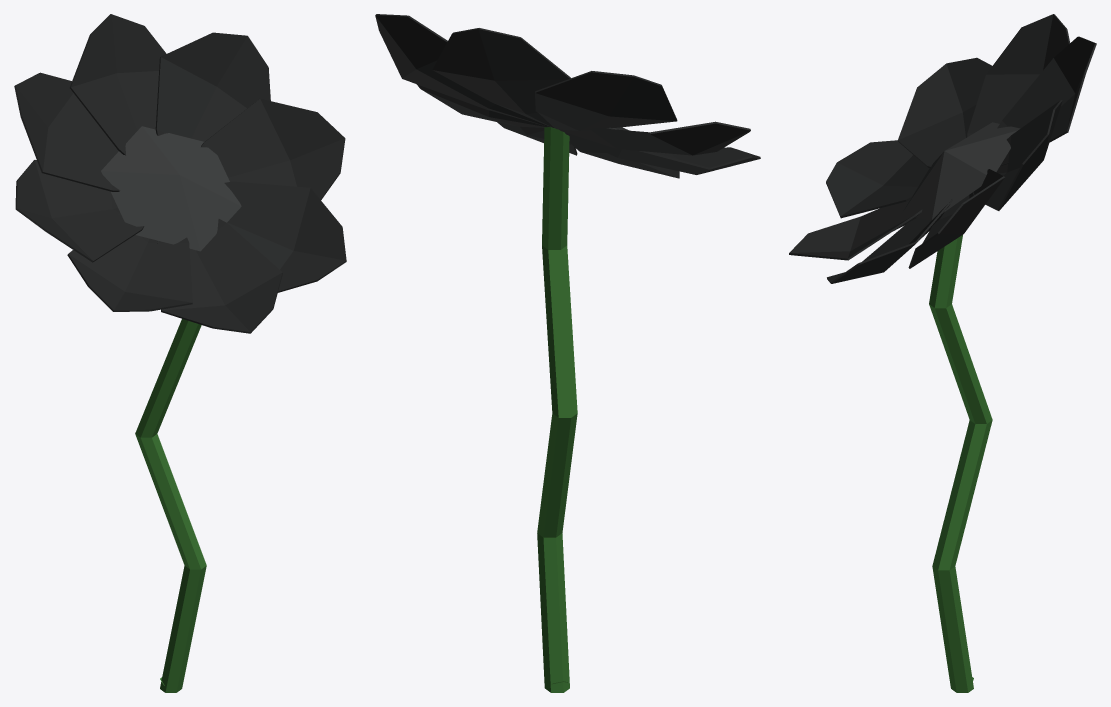
Rendered from Flower_5_Black.fbx.
3 views of the same model, side by side, from view 1: azimuth 30°, elevation 25°; view 2: azimuth 150°, elevation 25°; view 3: azimuth 270°, elevation 25° (orthographic). The views are drawn at different scales.
Parts seen in each view (by area): view 1: Flower_5_Black_Part_2, Flower_5_Black_Part_3, Flower_5_Black_Part_1; view 2: Flower_5_Black_Part_2, Flower_5_Black_Part_1; view 3: Flower_5_Black_Part_2, Flower_5_Black_Part_1, Flower_5_Black_Part_3.
Boxes of the visible parts, x1,y1,x2,y2 form: Flower_5_Black_Part_2: (14,14,346,333); Flower_5_Black_Part_3: (101,126,241,251); Flower_5_Black_Part_1: (135,319,206,692); Flower_5_Black_Part_2: (375,14,760,178); Flower_5_Black_Part_1: (537,127,577,692); Flower_5_Black_Part_2: (789,14,1096,283); Flower_5_Black_Part_1: (929,235,992,692); Flower_5_Black_Part_3: (901,122,1020,220).
Bounding box in the file's own units: 20.28 × 37.24 × 16.04.
